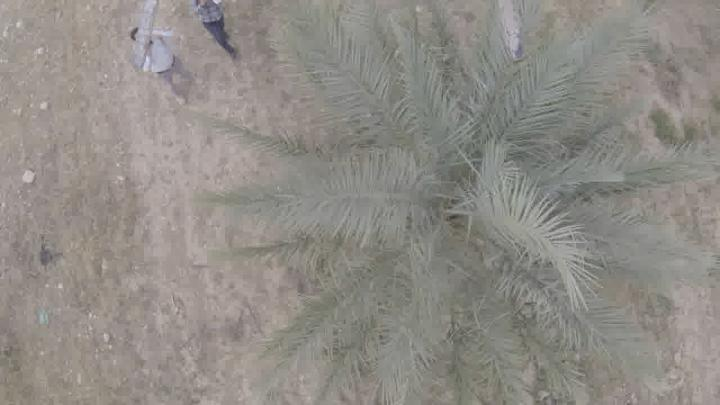Date-Palm-Crown: (313, 63, 603, 344)
